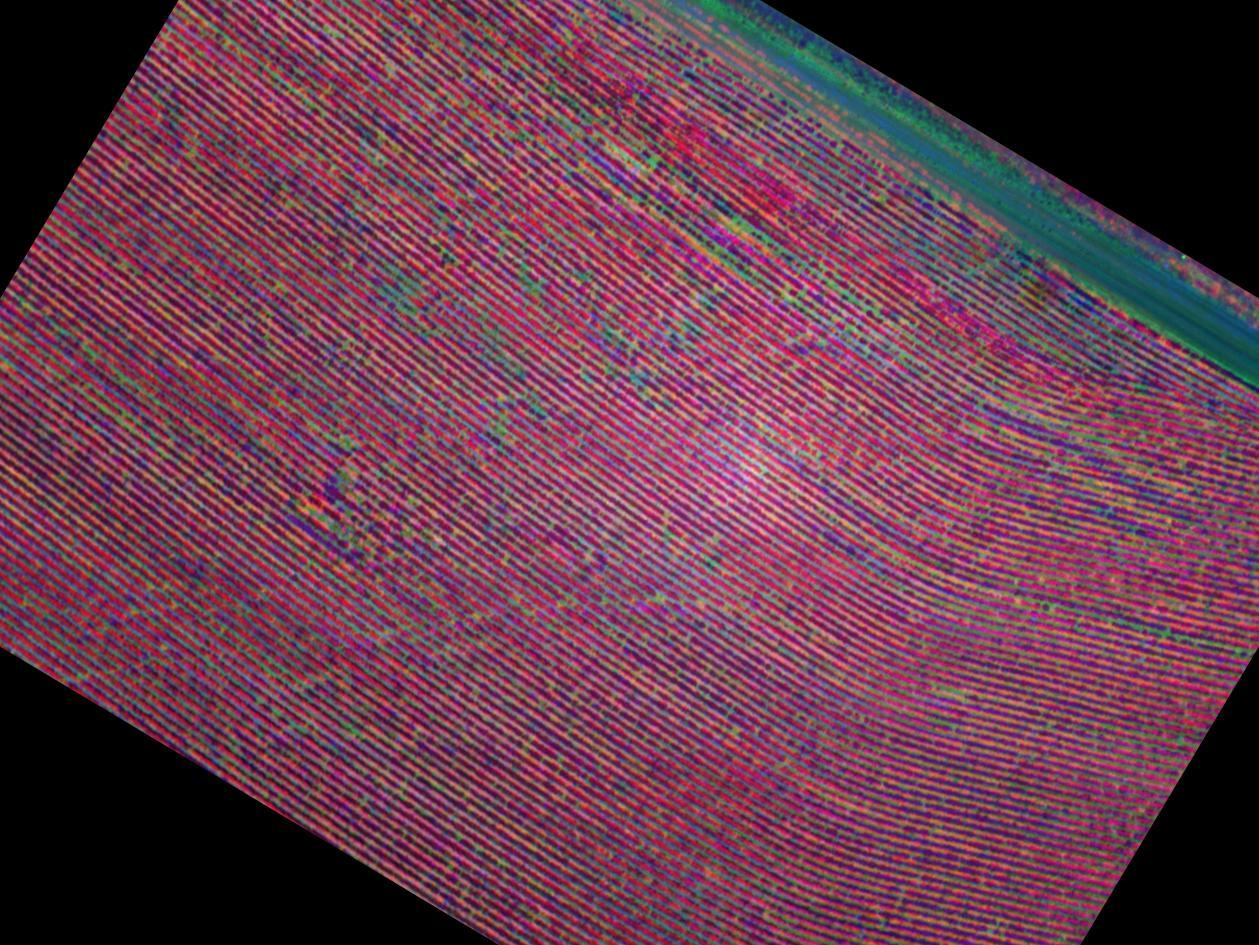dc: (709, 182, 798, 282), (606, 116, 686, 205), (380, 258, 448, 334)
